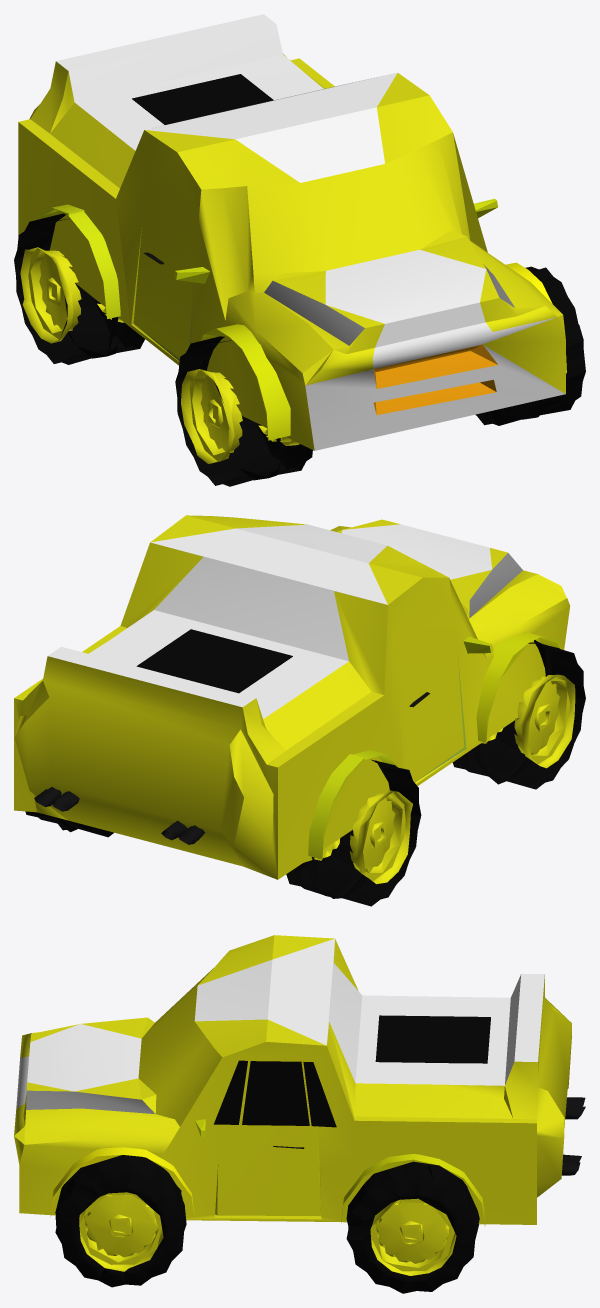
The model's file is car1_LOD2.fbx.
The picture shows the model from 3 angles, top to bottom: view 1: azimuth 30°, elevation 25°; view 2: azimuth 150°, elevation 25°; view 3: azimuth 270°, elevation 25°; orthographic projection. The views are drawn at different scales.
Visible parts, largest first — view 1: car1; view 2: car1; view 3: car1.
Boxes of the visible parts, x1=… form: car1: x1=14, y1=14, x2=585, y2=486; car1: x1=14, y1=515, x2=585, y2=906; car1: x1=14, y1=935, x2=585, y2=1293.
Bounding box in the file's own units: 130 × 88.92 × 200.
